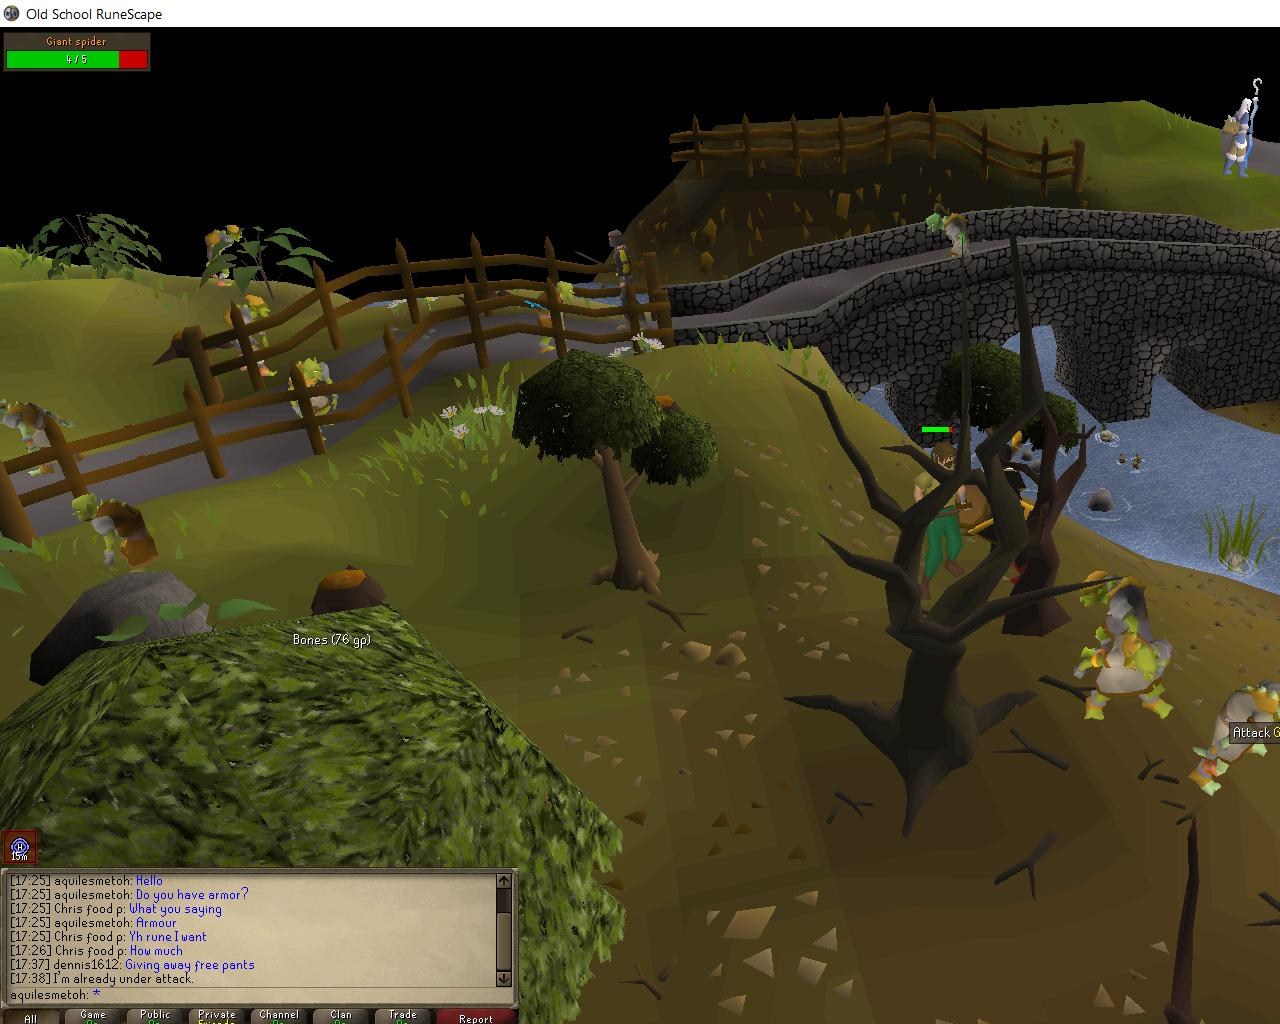Goblin: (1186, 674, 1280, 795), (1069, 569, 1167, 681), (1066, 632, 1181, 725), (65, 491, 170, 579), (1, 399, 87, 486), (282, 356, 351, 443), (225, 290, 282, 385), (195, 219, 242, 295), (920, 209, 979, 267)
